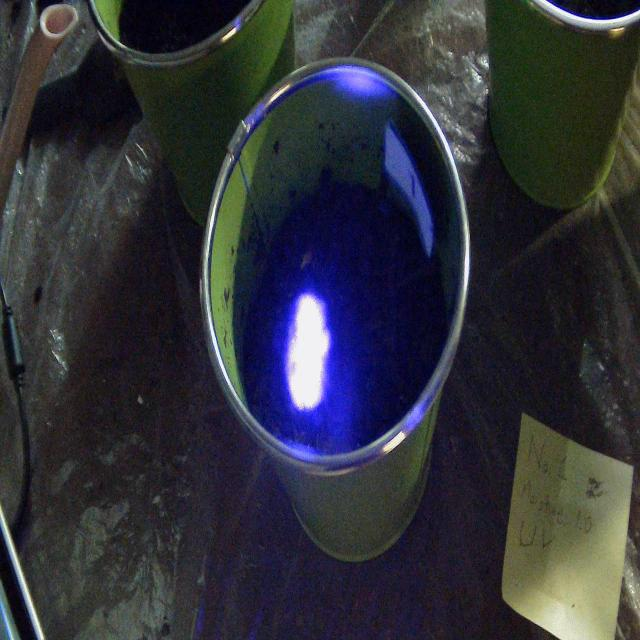soil-moisture-1.0: (284, 292, 330, 413)
